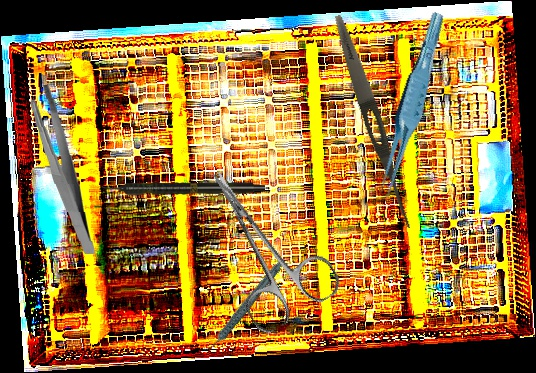Dressing Forceps: (328, 12, 420, 233), (29, 82, 96, 257)
Handpiece: (187, 257, 301, 354), (102, 181, 265, 195)
Iris Scissors: (177, 146, 346, 338)
Tissue Forceps: (362, 10, 459, 202)
